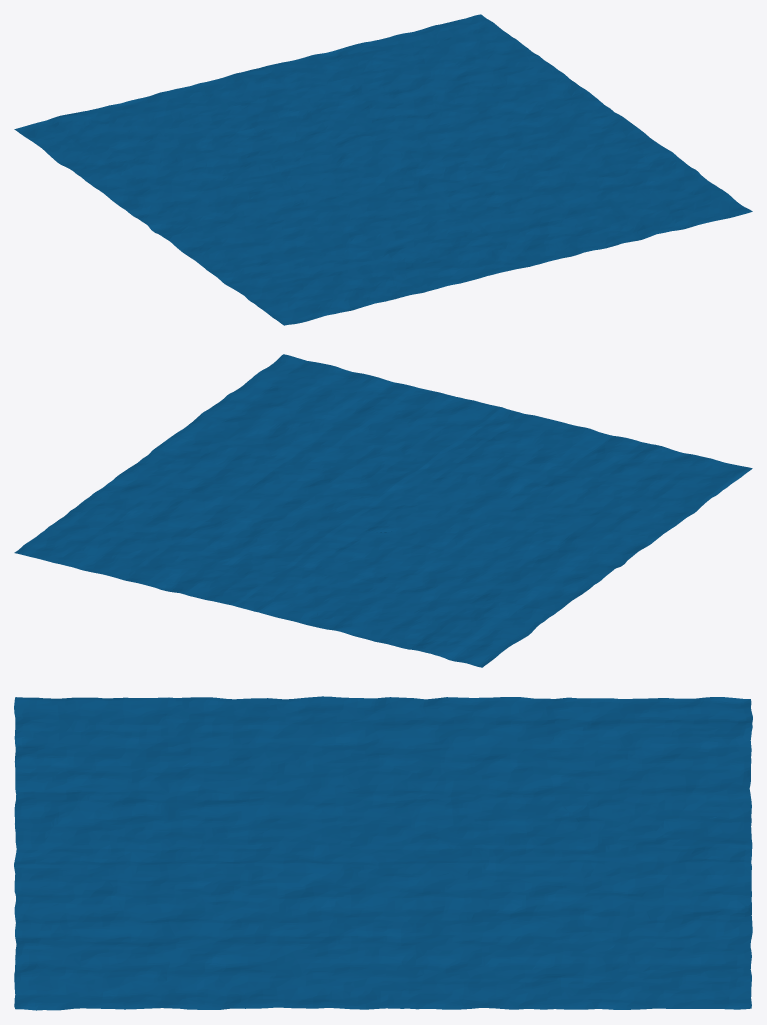
The model's file is Ocean.FBX.
3 views of the same model, one above another, from view 1: azimuth 30°, elevation 25°; view 2: azimuth 150°, elevation 25°; view 3: azimuth 270°, elevation 25° (orthographic). The views are drawn at different scales.
Visible parts, largest first — view 1: Plane.002; view 2: Plane.002; view 3: Plane.002.
Boxes of the visible parts, x1=… form: Plane.002: x1=14, y1=14, x2=752, y2=325; Plane.002: x1=14, y1=354, x2=752, y2=667; Plane.002: x1=14, y1=696, x2=752, y2=1010.
Bounding box in the file's own units: 11574 × 88.93 × 11570.
